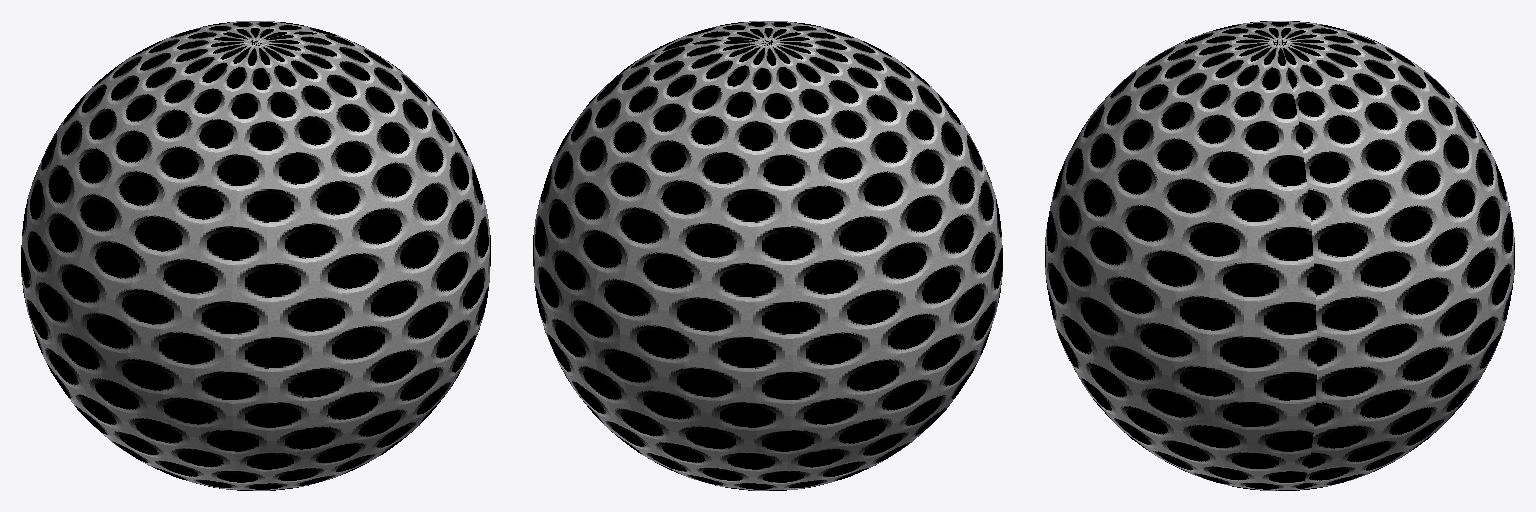
3 views of the same model, side by side, from view 1: azimuth 30°, elevation 25°; view 2: azimuth 150°, elevation 25°; view 3: azimuth 270°, elevation 25° (orthographic).
Visible parts, largest first — view 1: pSphere1; view 2: pSphere1; view 3: pSphere1.
Part boxes in pixels (x1,y1,x2,y2): pSphere1: (21,21,490,490); pSphere1: (533,21,1002,490); pSphere1: (1045,21,1514,490).
Size of the model in its own units: 2 by 2 by 2.
Materials: 1 (1 with a texture image).